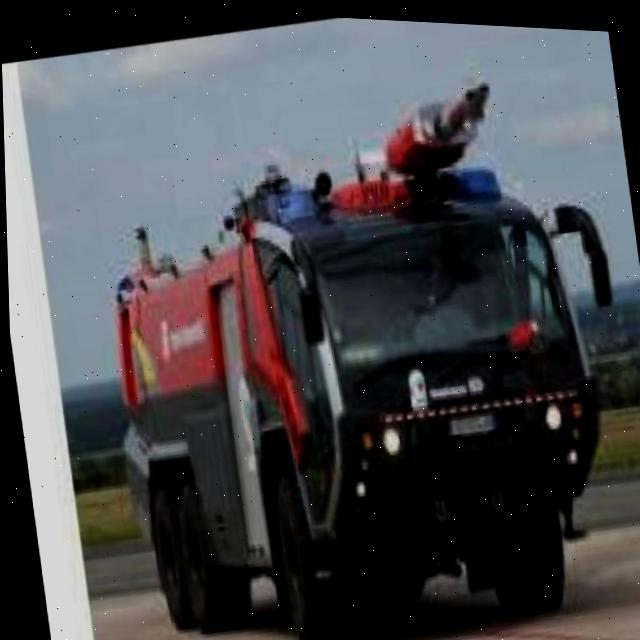emergency: (73, 48, 640, 640)
